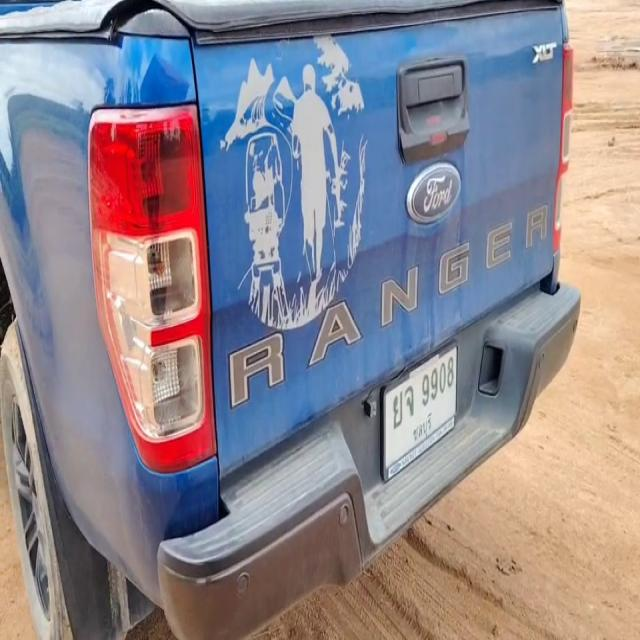Digit: (423, 354, 455, 410)
Licenseplate: (380, 337, 459, 485)
Provincename: (414, 412, 434, 443)
Thaichar: (391, 384, 415, 429)
